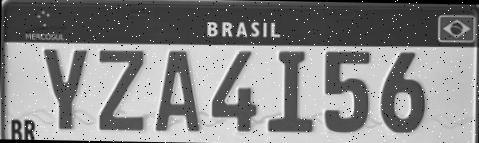placa_mercosul: (0, 0, 479, 143)
